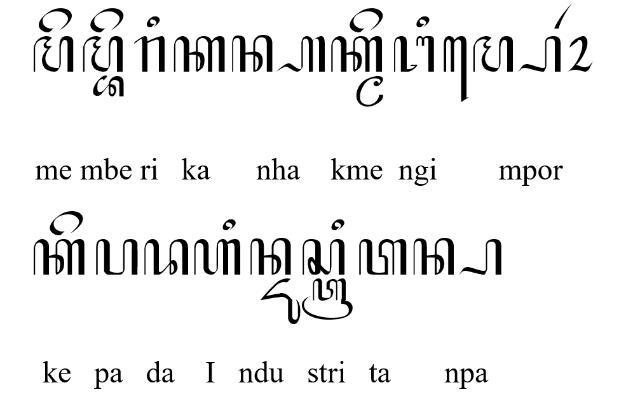_b: (92, 75, 124, 97)
_du: (260, 278, 300, 324)
_h: (276, 36, 326, 72)
_m: (356, 76, 384, 106)
_p: (458, 238, 502, 276), (518, 36, 562, 72)
_r1: (554, 3, 572, 29)
d: (144, 238, 188, 276)
e: (49, 210, 83, 236), (38, 8, 72, 32), (90, 8, 124, 32), (350, 8, 382, 32)
e1: (442, 35, 470, 103)
h: (193, 239, 241, 277)
i: (331, 219, 345, 232), (146, 16, 160, 28), (416, 15, 430, 27), (222, 220, 235, 232)
k: (173, 34, 225, 72), (33, 238, 85, 276), (331, 36, 384, 72)
m: (82, 34, 124, 72), (32, 36, 74, 72), (472, 36, 514, 72)
n: (231, 35, 273, 73), (249, 238, 291, 276), (412, 238, 454, 276)
nga: (393, 35, 435, 73)
o: (566, 37, 594, 72)
p: (95, 238, 137, 276)
r: (133, 35, 165, 73)
s: (301, 238, 345, 276)
t: (358, 240, 408, 276)
tr: (302, 278, 354, 320)
